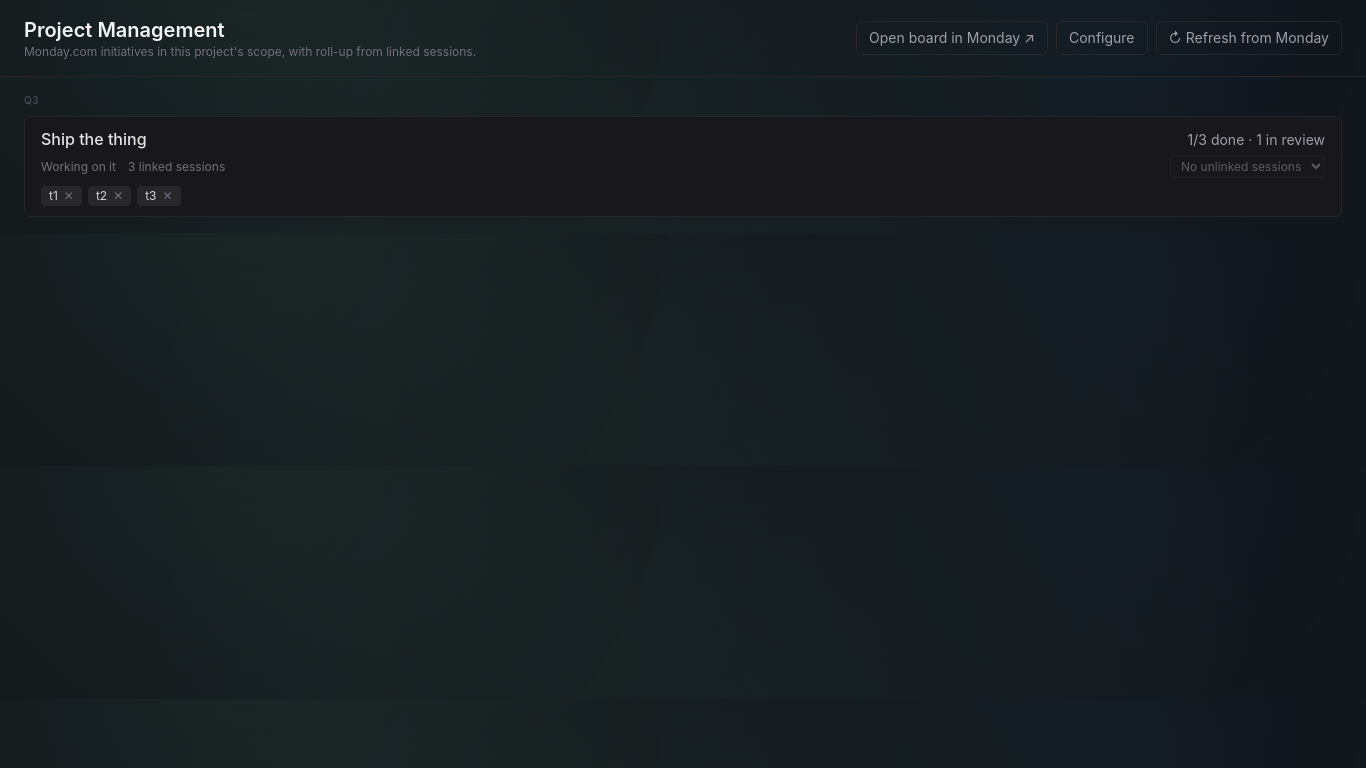
ProjectManagementView › surfaces an inline error, without discarding the row, when unlinking fails
This screenshot has width=1366, height=768.
expect the text "Ship the thing" is shown: met, box [41,127,147,151]
Click the button named "unlink session t1".
click(69, 196)  # box [64,188,74,204]
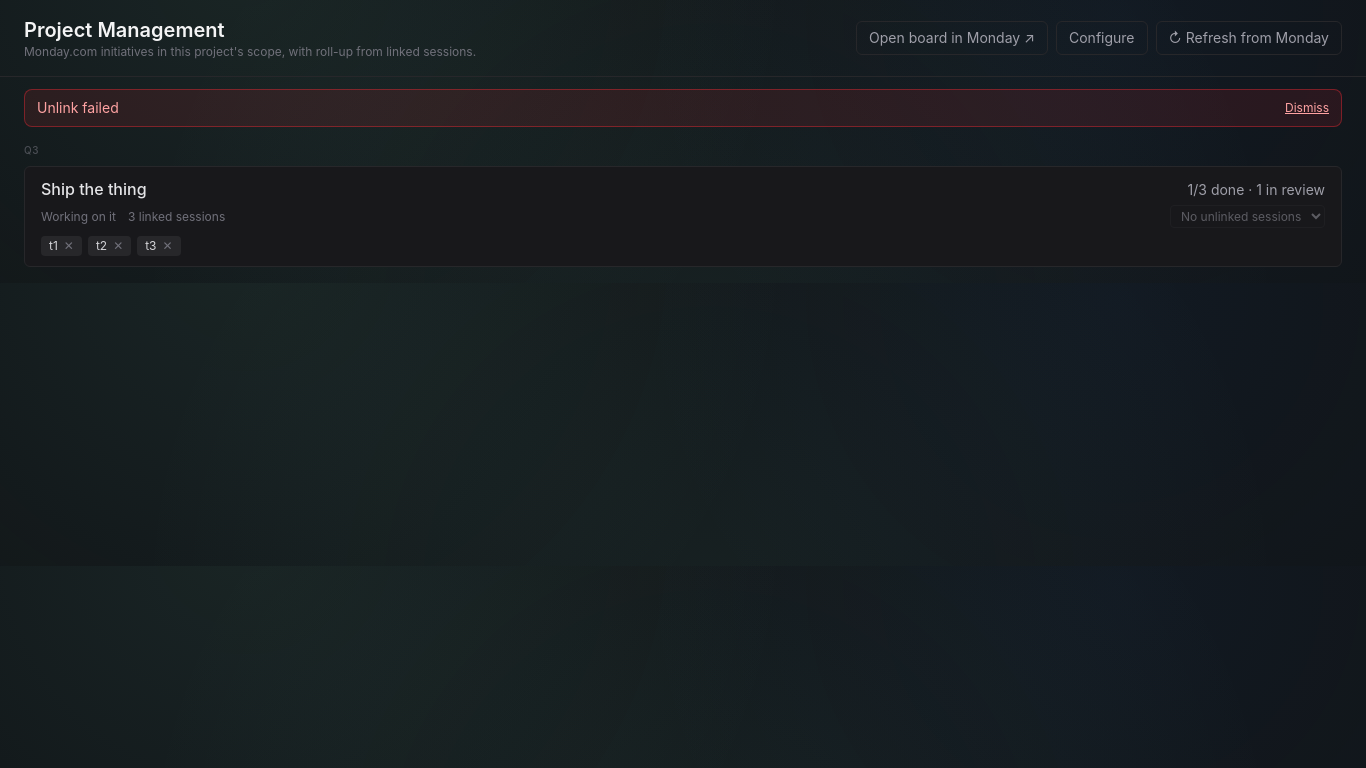
expect the text "t1" is shown: met, box [49,238,58,254]
expect the text "Unlink failed" is shown: met, box [37,98,119,118]
